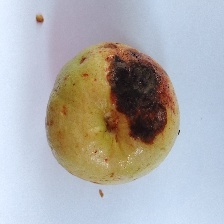guava: (55, 26, 199, 175)
